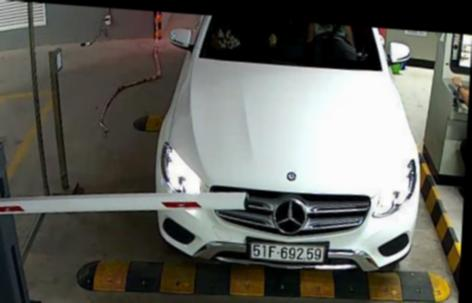License_Plate: (250, 235, 328, 266)
